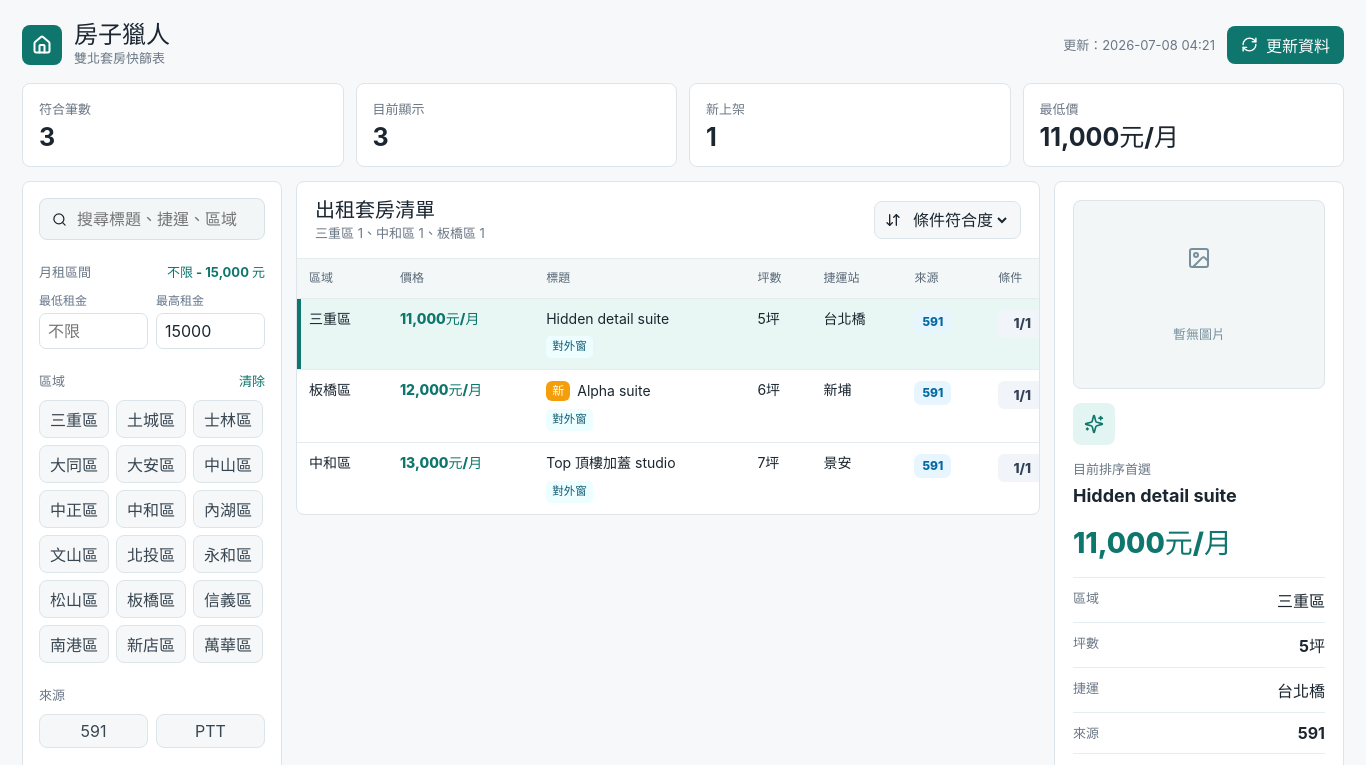
Test: App › updates the detail panel when selecting a different listing row
Expected: the text "Alpha suite" is not shown
Expected: the heading "Hidden detail suite" is shown, [1073, 485, 1237, 506]
Click the row "板橋區 12,000元/月 新 Alpha suite 對外窗 6坪 新埔 591 1/1".
click(727, 406)  # box [297, 370, 1157, 443]
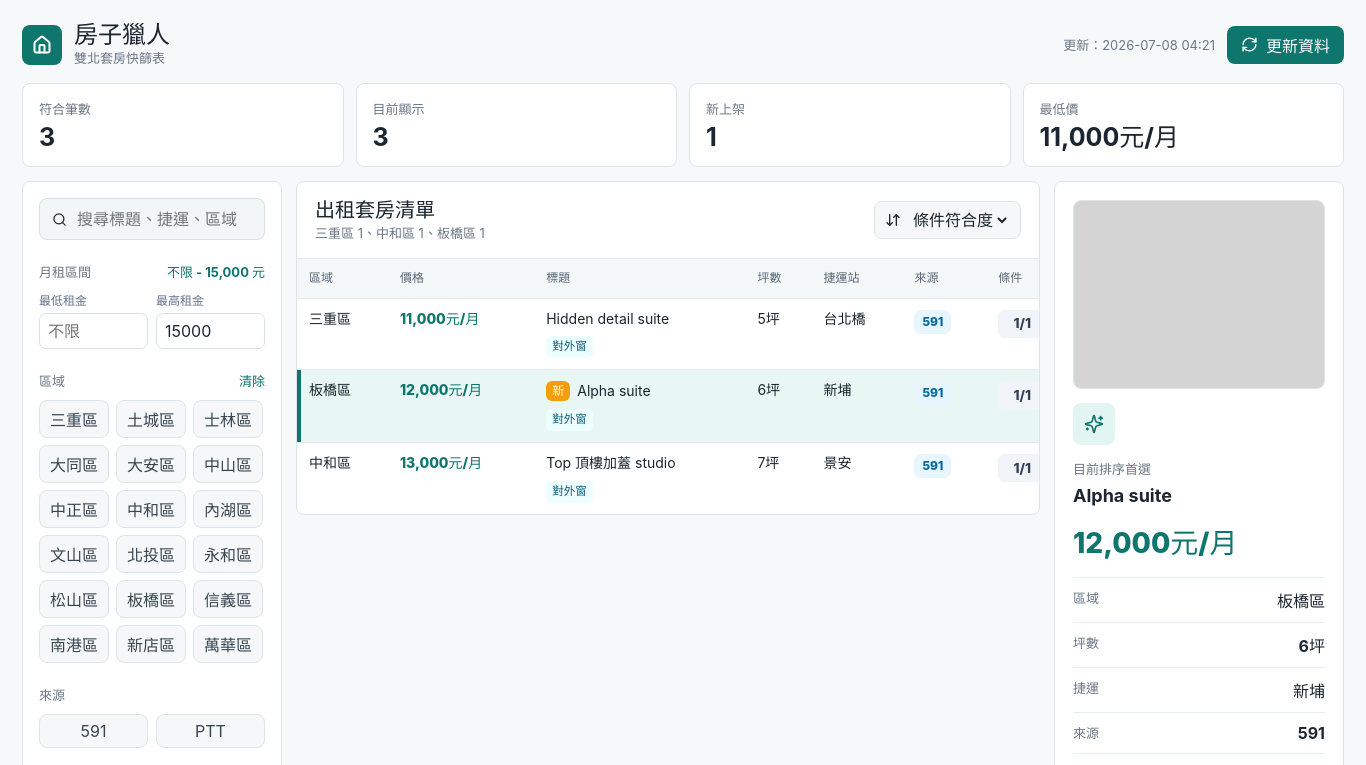
Result: the heading "Alpha suite" is shown at [1073, 485, 1172, 506]
